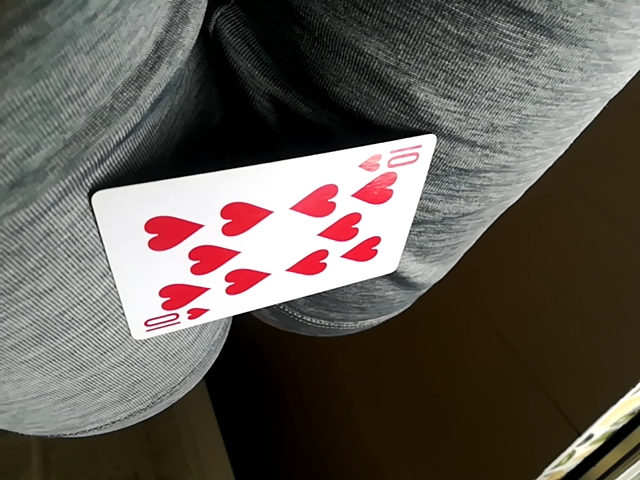hx 10: (90, 137, 431, 338)
